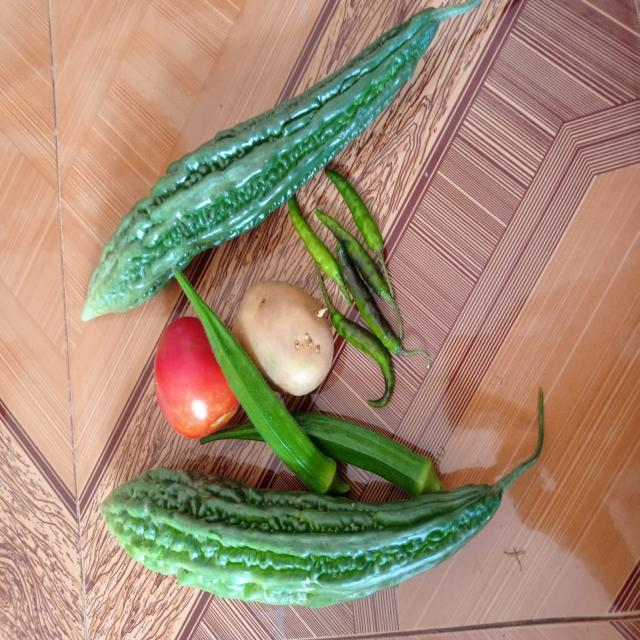Organik: (93, 475, 559, 610), (81, 131, 262, 318), (246, 423, 458, 495), (324, 216, 404, 406), (156, 312, 242, 438), (242, 284, 334, 397)
